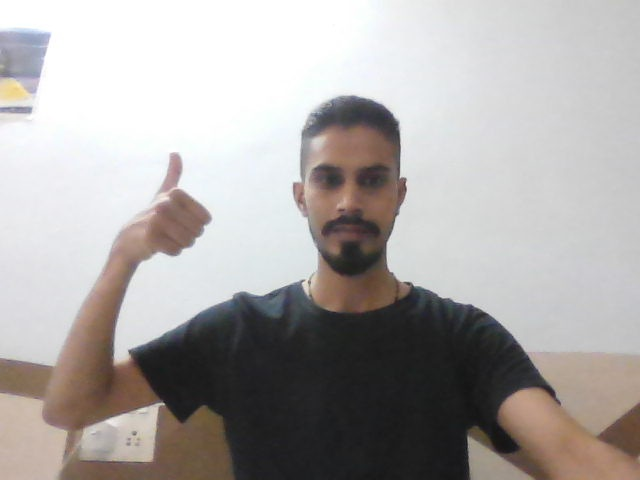ThumbsUp: (115, 142, 231, 264)
